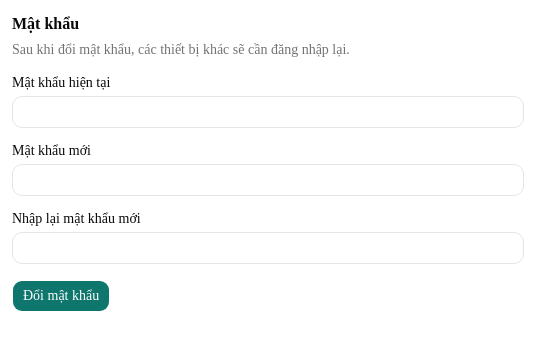
Test: ChangePasswordFormContainer › sai mật khẩu hiện tại (CURRENT_PASSWORD_INCORRECT) -> lỗi ngay dưới ô đó, giữ nguyên form
Step 1. Type "old-password-1" into the password field labelled "Mật khẩu hiện tại" → (268, 112), box [12,96,524,128]
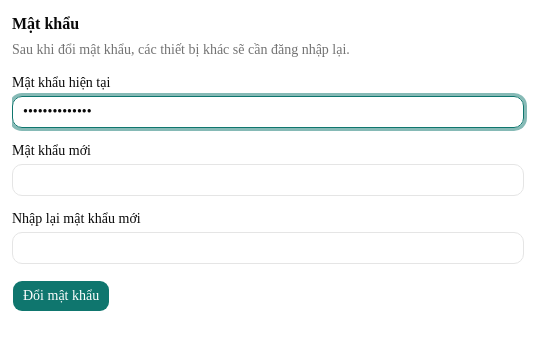
Step 2. Type "new-password-2" into the password field labelled "Mật khẩu mới" → (268, 180), box [12,164,524,196]
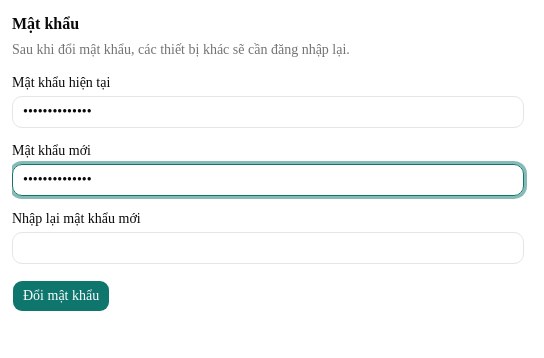
Step 3. Type "new-password-2" into the password field labelled "Nhập lại mật khẩu mới" → (268, 248), box [12,232,524,264]
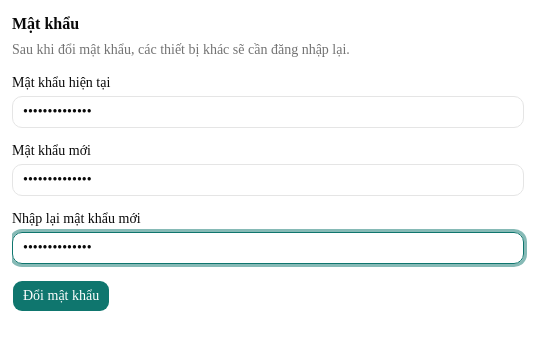
Step 4. Click the button "Đổi mật khẩu" → click(61, 296), box [12,280,110,312]
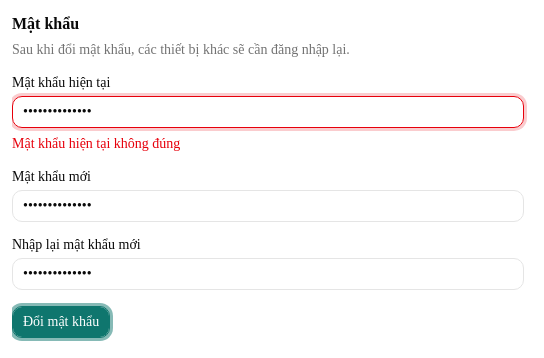
Expected: the text "Mật khẩu hiện tại không đúng" is shown, [12,136,180,151]
